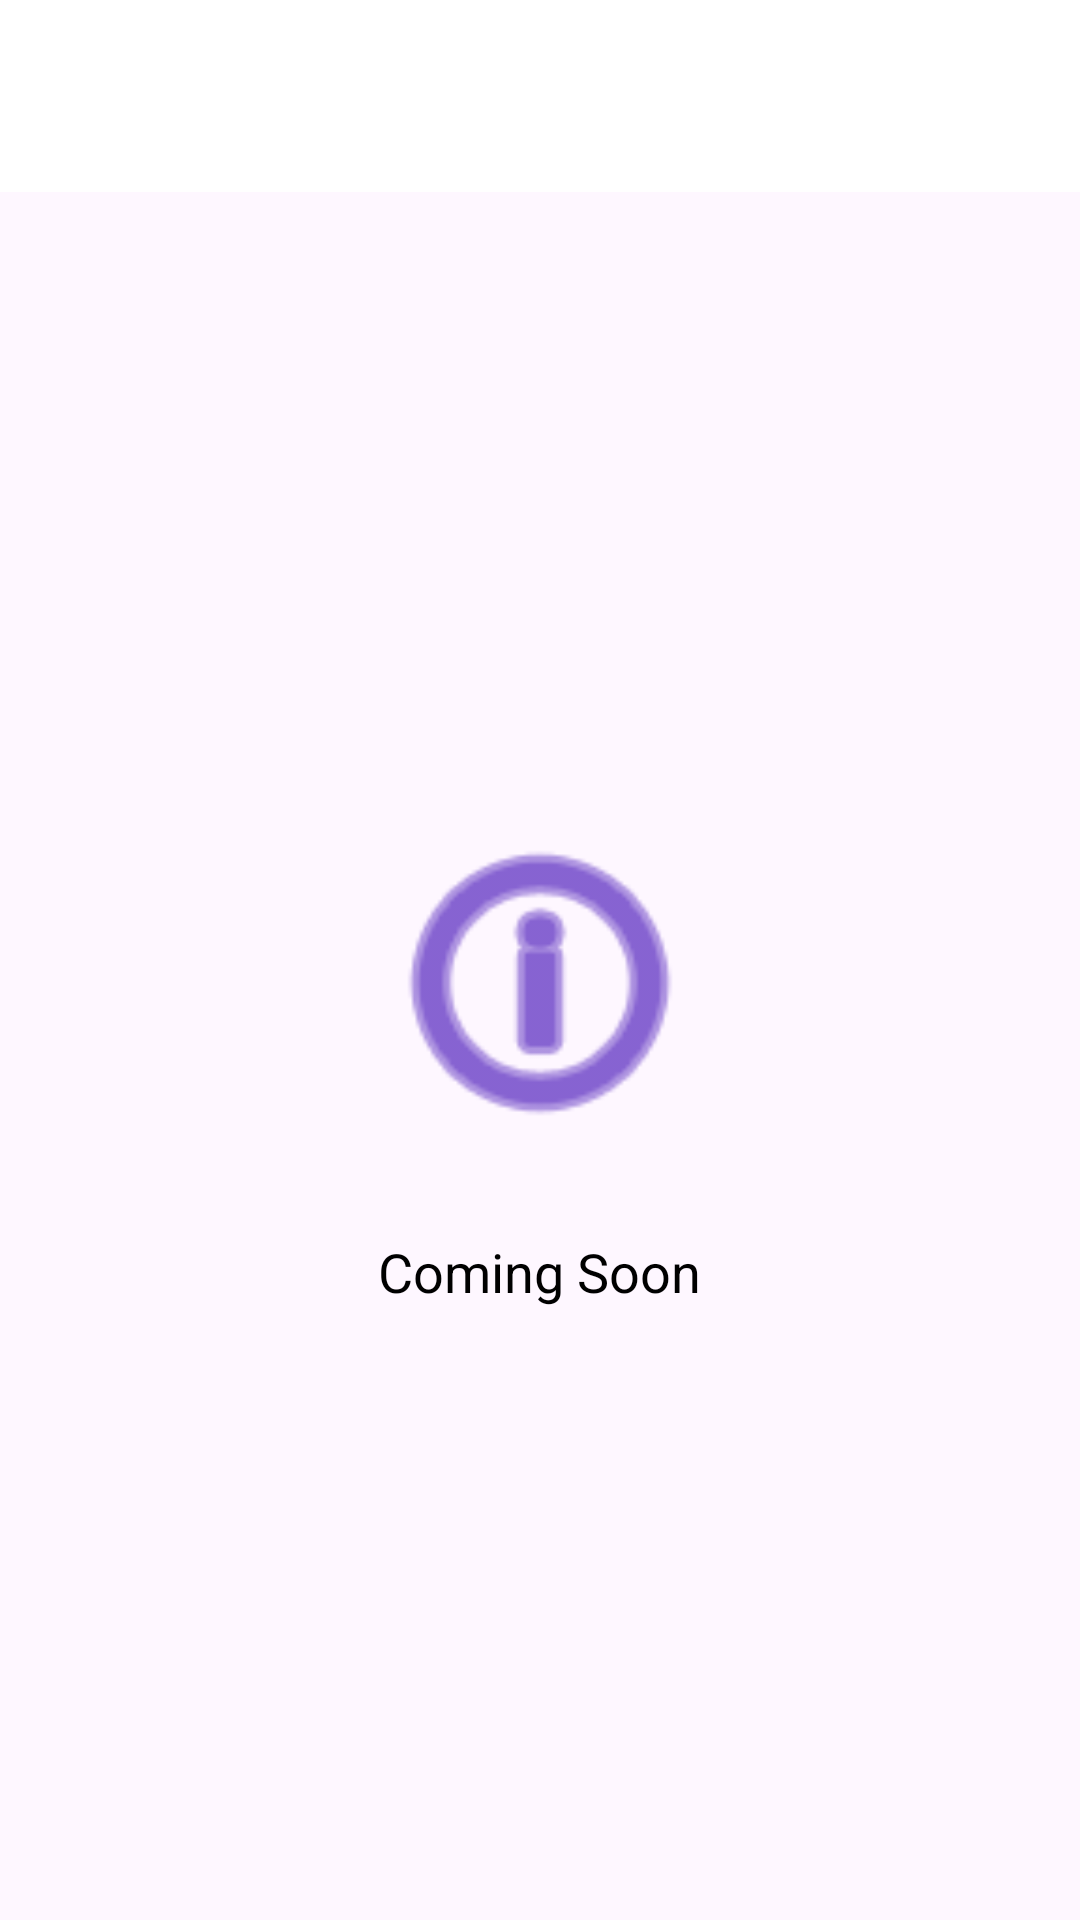

Point at icon controls on the screen. Image size 1080*1920, points as point (x, y).
info details: point (540, 983)
